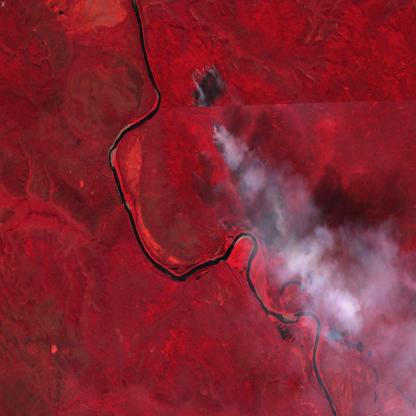fire: (185, 57, 306, 262)
